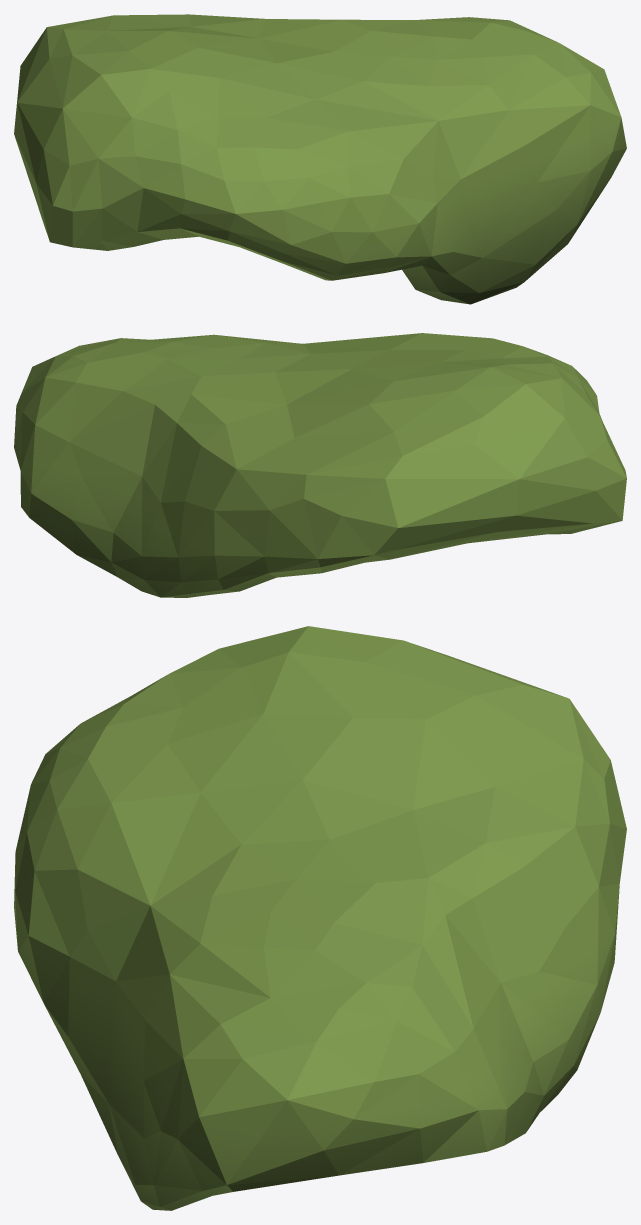
The model's file is Jungle_PlatformRock_Small_B_Grass.fbx.
3 views of the same model, one above another, from view 1: azimuth 30°, elevation 25°; view 2: azimuth 150°, elevation 25°; view 3: azimuth 270°, elevation 25° (orthographic). The views are drawn at different scales.
Parts seen in each view (by area): view 1: Jungle_PlatformRock_Small_B_Grass; view 2: Jungle_PlatformRock_Small_B_Grass; view 3: Jungle_PlatformRock_Small_B_Grass.
Boxes of the visible parts, box(x1,y1,x2,y2) form: Jungle_PlatformRock_Small_B_Grass: box(14, 14, 626, 304); Jungle_PlatformRock_Small_B_Grass: box(14, 333, 626, 597); Jungle_PlatformRock_Small_B_Grass: box(14, 626, 626, 1210).
Bounding box in the file's own units: 6.58 × 2.86 × 4.54.
